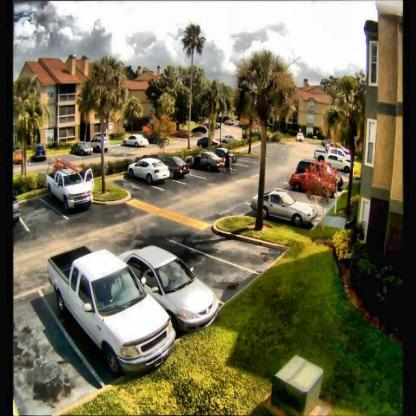free: (15, 319, 70, 412), (230, 228, 270, 269), (206, 250, 244, 293), (26, 192, 52, 232)
occupied: (69, 259, 151, 353), (159, 252, 219, 327), (51, 159, 94, 213), (260, 185, 316, 220), (132, 152, 166, 184), (166, 151, 192, 175)
